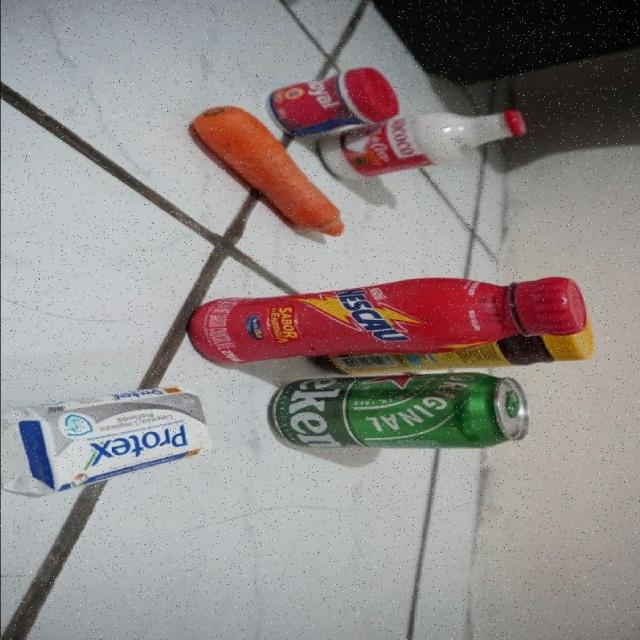BeerCan: (276, 377, 536, 450)
Carrot: (188, 122, 334, 239)
ChocolateMilk: (186, 274, 590, 343)
ChocolatePowder: (435, 334, 591, 377)
CoconutMilk: (345, 105, 543, 176)
Soap: (0, 388, 210, 499)
Yeast: (280, 73, 395, 133)
